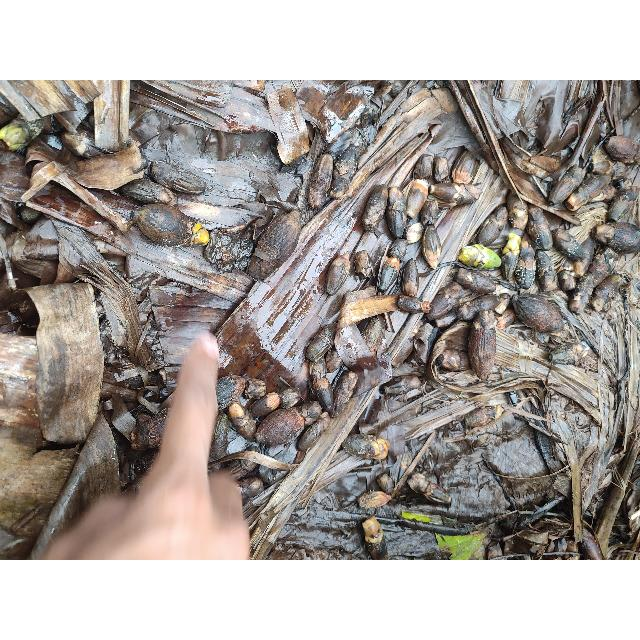damaged: (124, 206, 210, 248), (254, 204, 302, 276), (218, 126, 276, 166), (148, 160, 208, 196), (510, 294, 566, 332), (210, 225, 254, 273), (254, 408, 306, 447), (60, 128, 122, 160), (468, 311, 497, 379), (98, 292, 132, 346), (565, 174, 611, 212), (0, 146, 32, 200), (340, 112, 374, 160), (500, 137, 540, 177), (130, 408, 168, 450), (24, 134, 62, 176), (121, 179, 177, 207), (549, 166, 585, 206), (392, 84, 436, 116), (593, 222, 639, 252), (307, 153, 331, 210), (330, 370, 358, 418), (362, 184, 386, 240), (610, 80, 640, 124), (591, 272, 625, 310), (227, 195, 270, 225), (455, 268, 501, 296), (342, 434, 388, 462), (298, 413, 330, 453), (408, 472, 447, 504), (477, 206, 507, 246), (526, 205, 552, 251), (361, 514, 387, 560), (431, 182, 477, 208), (125, 449, 158, 485), (552, 228, 588, 260), (549, 121, 581, 157), (386, 186, 406, 242), (569, 236, 595, 278), (458, 243, 500, 269), (463, 404, 502, 432), (228, 402, 256, 441), (222, 447, 258, 477), (514, 242, 536, 290), (326, 252, 350, 296), (550, 342, 594, 366), (608, 188, 638, 222), (306, 326, 334, 362), (331, 144, 359, 180), (377, 253, 401, 293), (605, 136, 639, 164), (535, 249, 557, 291), (406, 180, 428, 222), (282, 148, 312, 178), (452, 151, 478, 185), (248, 392, 282, 418), (215, 376, 241, 410), (361, 317, 383, 357), (506, 191, 528, 231), (586, 252, 610, 288), (427, 290, 455, 320), (246, 252, 276, 280), (578, 529, 606, 559), (523, 155, 561, 177), (312, 377, 334, 415), (212, 412, 230, 458), (423, 225, 441, 271), (392, 450, 414, 486), (436, 348, 468, 372), (570, 275, 594, 307), (432, 86, 458, 114), (386, 376, 422, 396), (358, 490, 392, 510), (236, 476, 264, 500), (354, 250, 374, 282), (402, 258, 418, 298), (328, 176, 352, 202), (299, 196, 319, 227), (387, 238, 409, 266), (440, 281, 468, 303), (413, 154, 433, 184), (399, 294, 429, 314), (294, 401, 322, 422), (16, 203, 44, 224), (309, 356, 327, 388), (482, 148, 502, 176), (502, 248, 518, 282), (421, 199, 439, 229), (278, 387, 302, 409), (557, 266, 577, 292), (493, 292, 513, 318), (433, 156, 451, 184), (608, 160, 630, 182), (244, 378, 266, 400), (326, 344, 342, 374), (376, 471, 396, 495), (546, 210, 566, 234), (496, 306, 516, 328), (404, 222, 424, 244), (40, 114, 62, 134), (502, 234, 522, 256), (387, 80, 411, 98), (590, 161, 614, 177), (132, 150, 148, 173)
